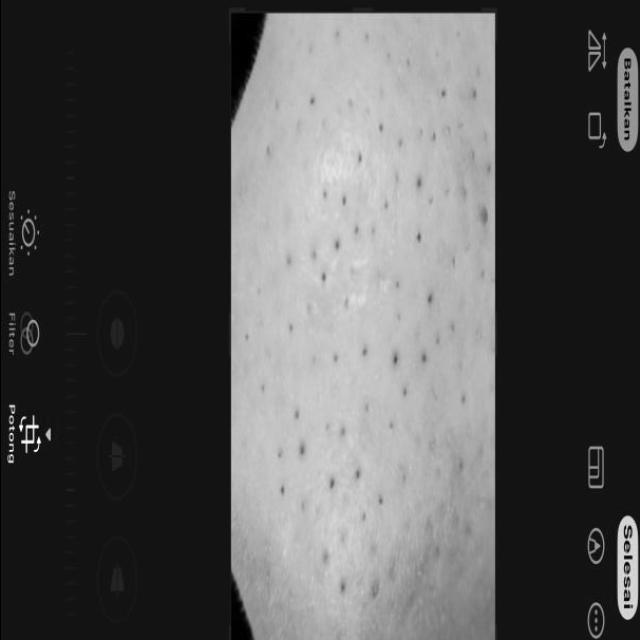blackhead: (246, 74, 468, 640)
